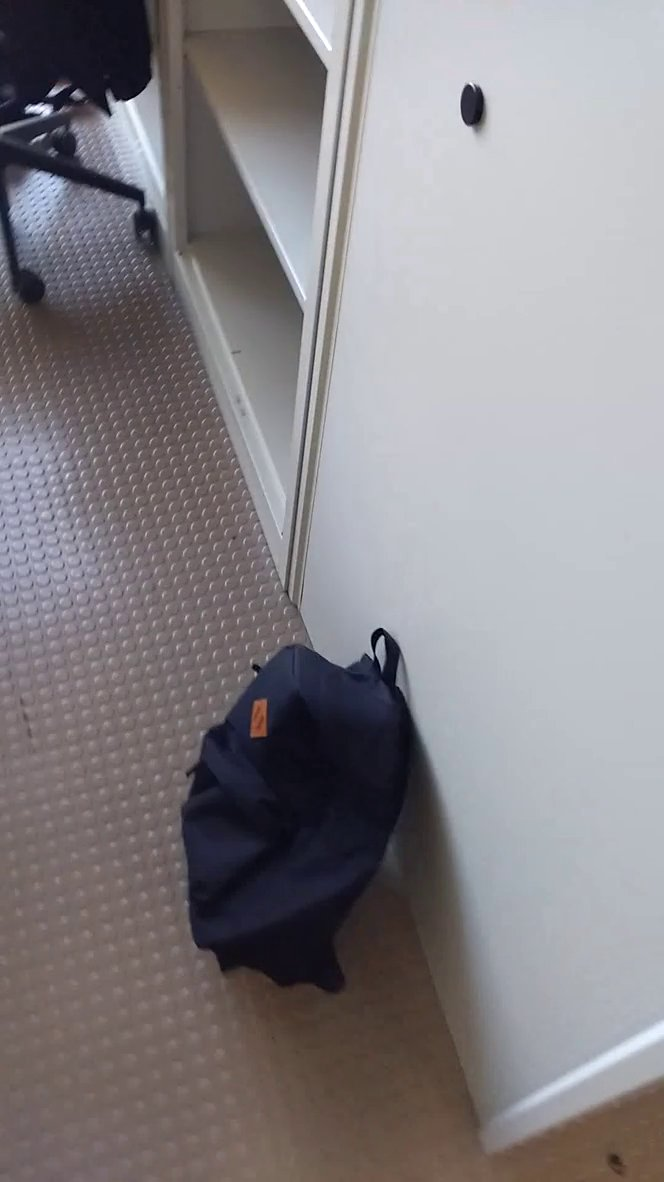bag: (159, 620, 440, 1031)
